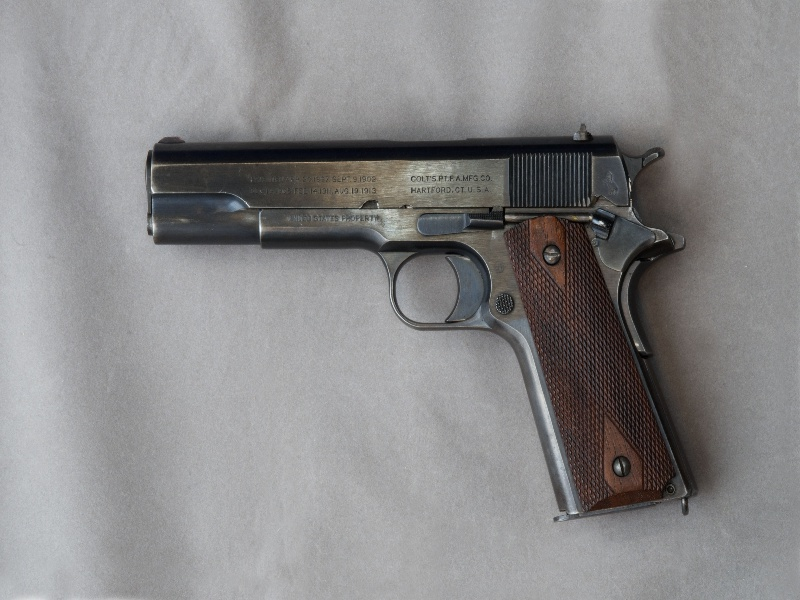gun: (136, 122, 718, 526)
